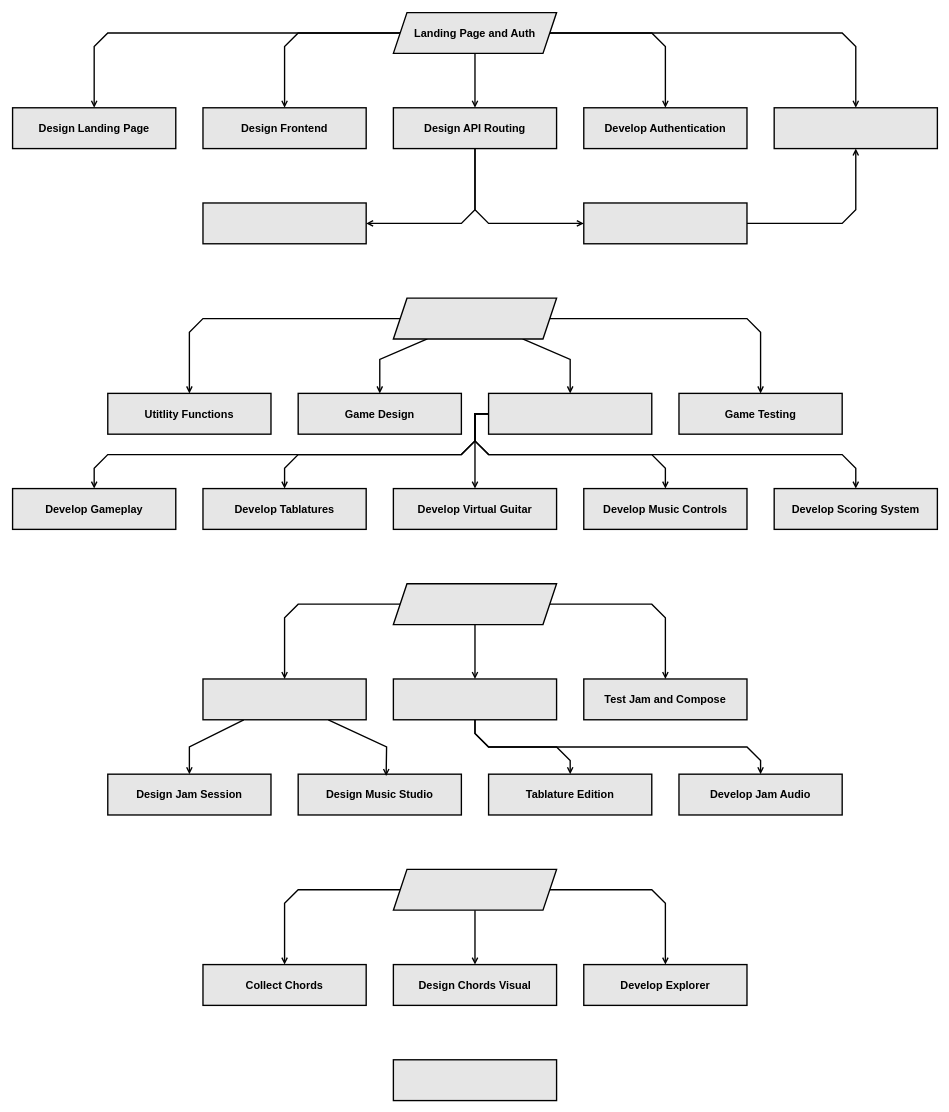
Some shapes in this 949 by 1112 pixel diagram are drawn without their labels. Here are the shapes that lost their labels. From the top down, the box of each, then its label:
(773, 107, 938, 149): Test Authentication
(202, 202, 367, 244): Design DB Schemas
(583, 202, 747, 244): Develop Database
(392, 297, 557, 339): Game
(488, 392, 652, 435): Game Development
(392, 583, 557, 625): Jam Session & Compose
(202, 678, 367, 720): Feature Designs
(392, 678, 557, 720): Feature Development
(392, 868, 557, 911): Chord Explorer
(392, 1059, 557, 1101): User Acceptance Testing
